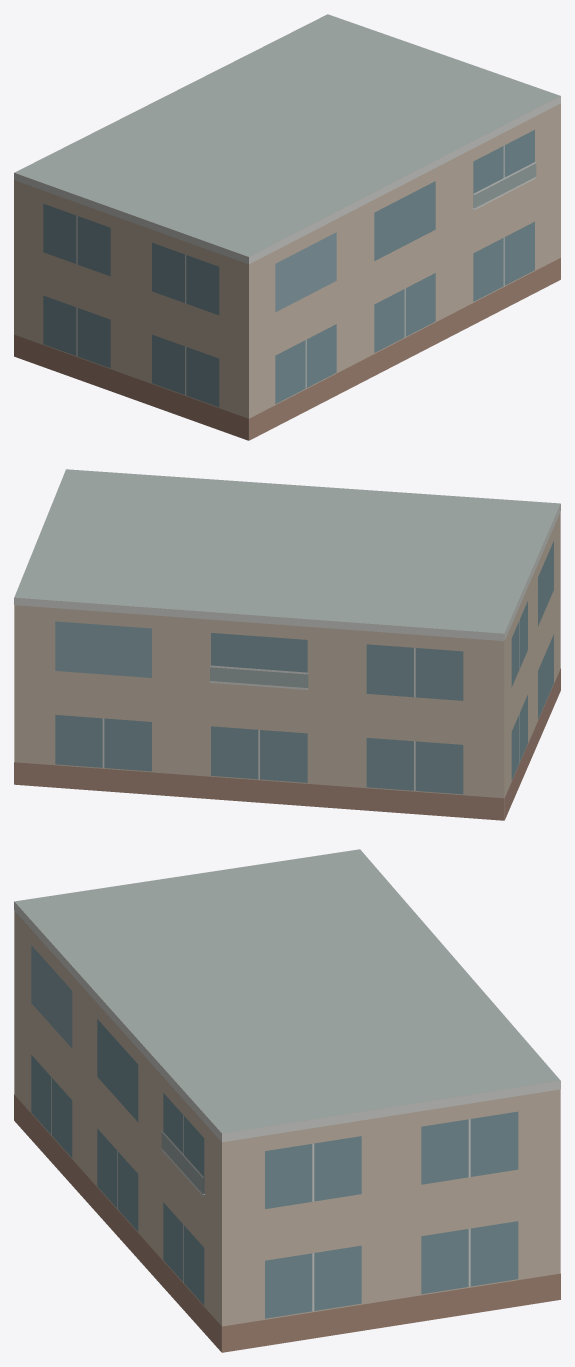
The model's file is survey-upis-32843118.glb.
3 renders of one model, top to bottom at view 1: azimuth 30°, elevation 25°; view 2: azimuth 150°, elevation 25°; view 3: azimuth 270°, elevation 25°, orthographic. The views are drawn at different scales.
Parts seen in each view (by area): view 1: survey-upis-32843118.tmp; view 2: survey-upis-32843118.tmp; view 3: survey-upis-32843118.tmp.
Part boxes in pixels (<box>): survey-upis-32843118.tmp: <box>14,14,560,440</box>; survey-upis-32843118.tmp: <box>14,469,560,820</box>; survey-upis-32843118.tmp: <box>14,849,560,1352</box>.
Size of the model in its own units: 16.99 by 6.1 by 13.8.
